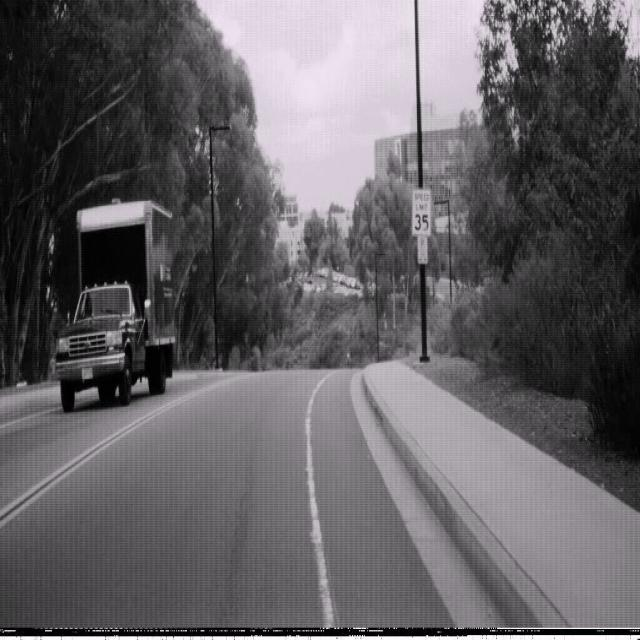speedLimit35: (411, 186, 431, 237)
